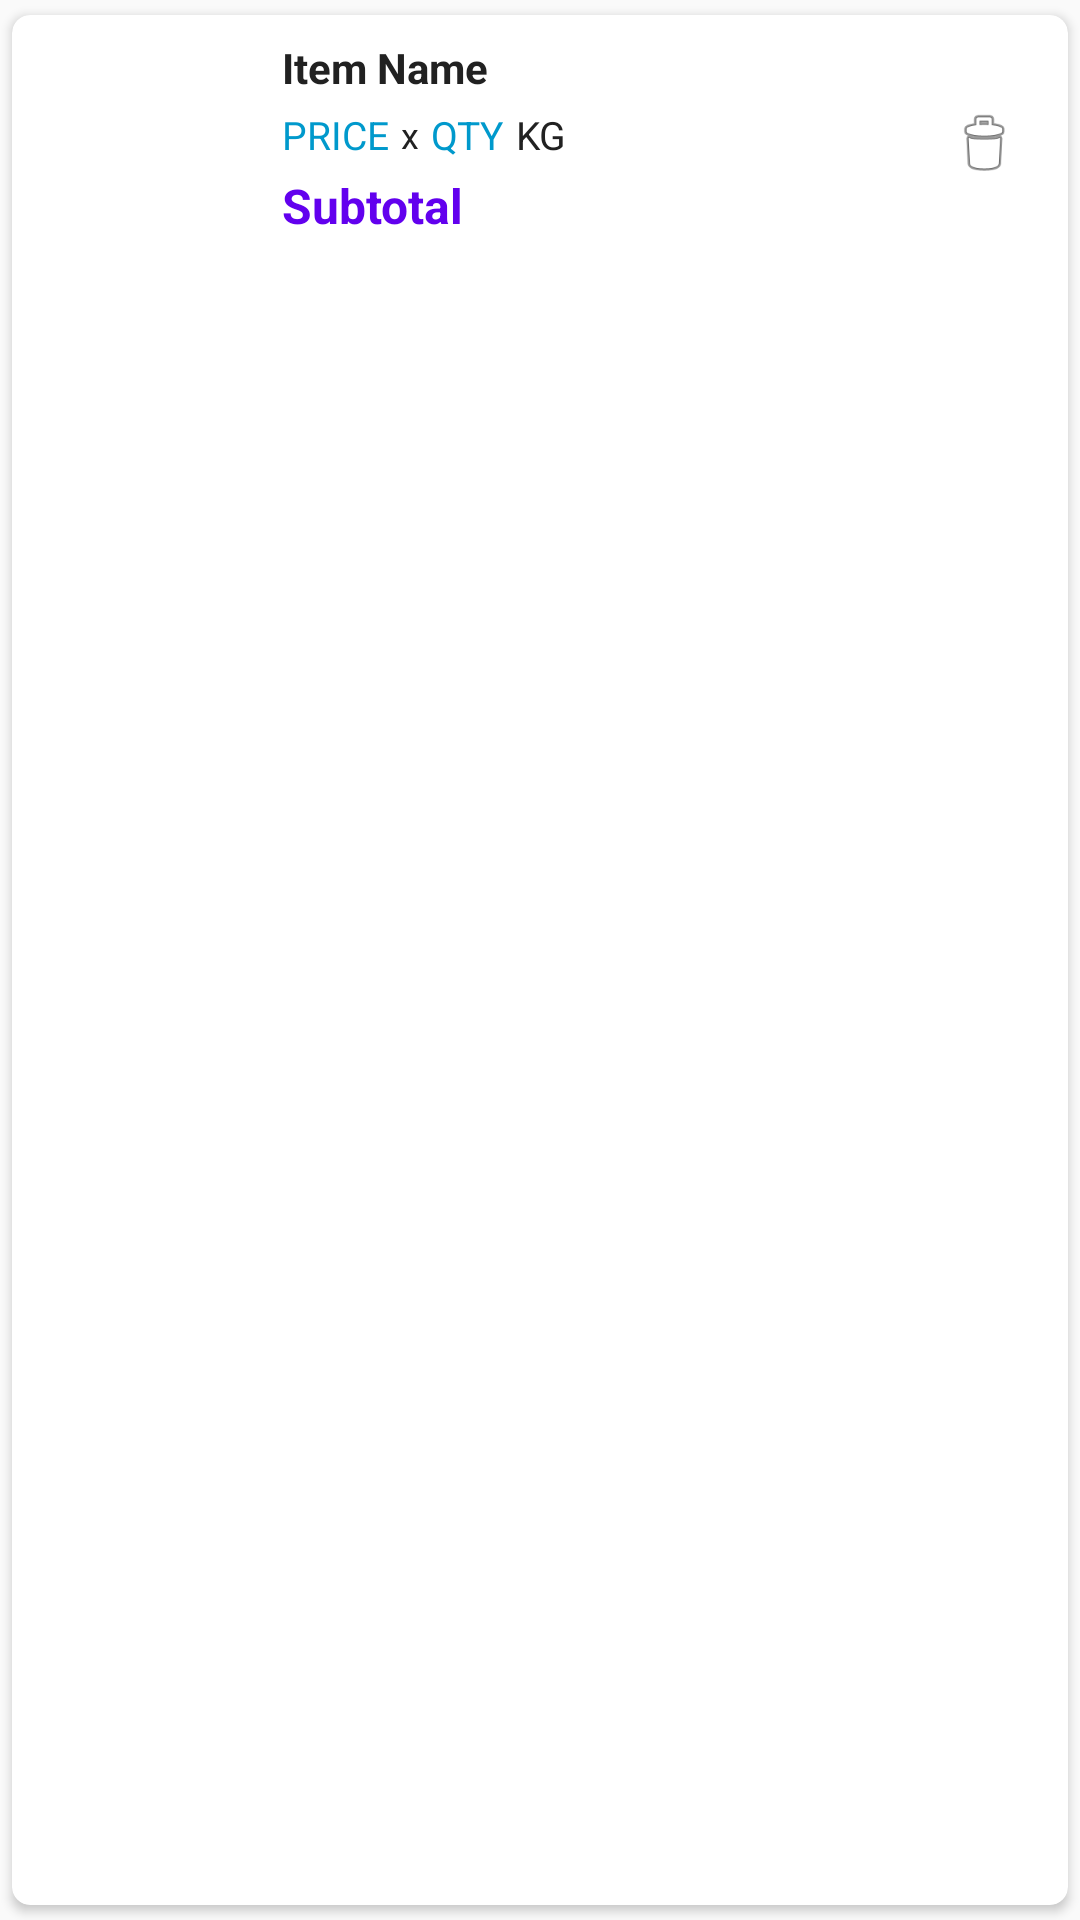

Screen size 1080*1920. Icon name, then its box in pixels as (x1, y1, x2, y2):
delete: (964, 115, 1005, 171)
